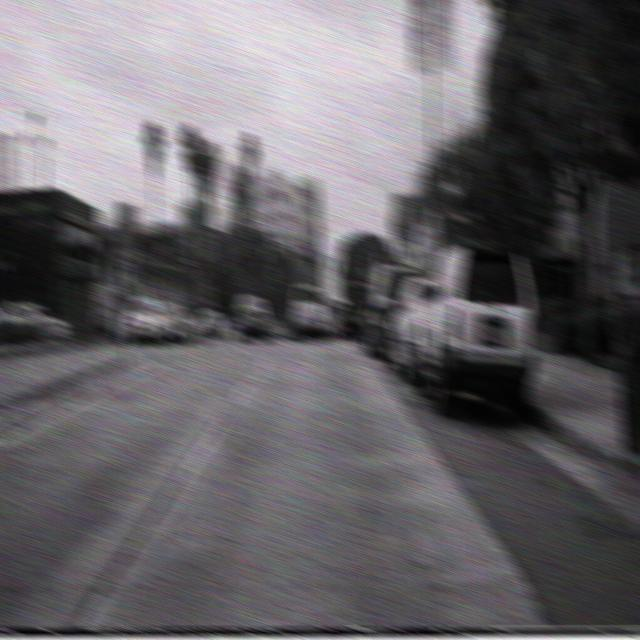speedLimit35: (421, 169, 444, 211), (197, 230, 214, 260)
